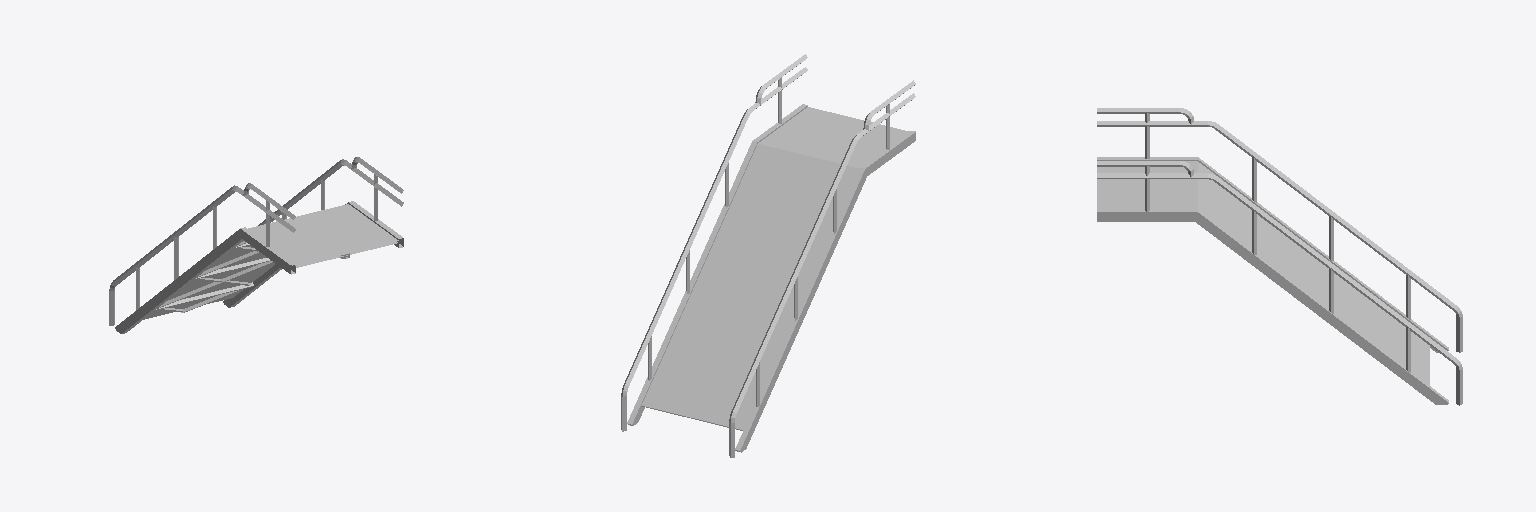
The model's file is Bridges_Stairs_B.obj.
3 views of the same model, side by side, from view 1: azimuth 30°, elevation 25°; view 2: azimuth 150°, elevation 25°; view 3: azimuth 270°, elevation 25° (orthographic).
Visible parts, largest first — view 1: Bridges_stairs_2; view 2: Bridges_stairs_2; view 3: Bridges_stairs_2.
Boxes of the visible parts, x1,y1,x2,y2 form: Bridges_stairs_2: [109, 157, 403, 333]; Bridges_stairs_2: [621, 54, 915, 457]; Bridges_stairs_2: [1097, 108, 1462, 405].
Bounding box in the file's own units: 2.1 × 4.29 × 5.84.